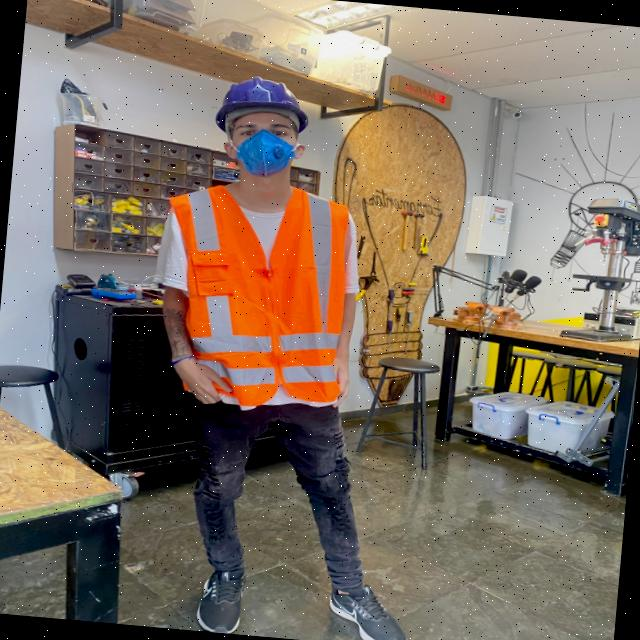CAPACETE: (217, 72, 307, 132)
COLETE: (158, 182, 350, 408)
SEM BOTA: (319, 580, 406, 640), (194, 558, 248, 632)
SEM LUVA: (165, 354, 237, 409), (324, 358, 353, 409)
